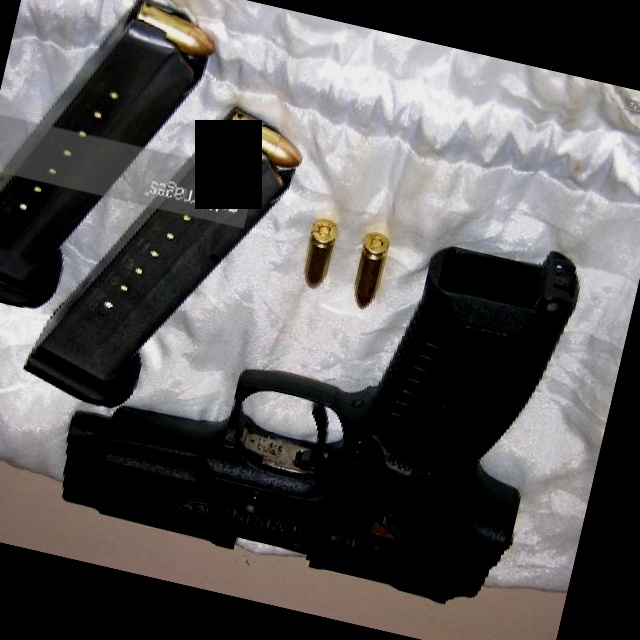gun: (38, 149, 593, 623)
